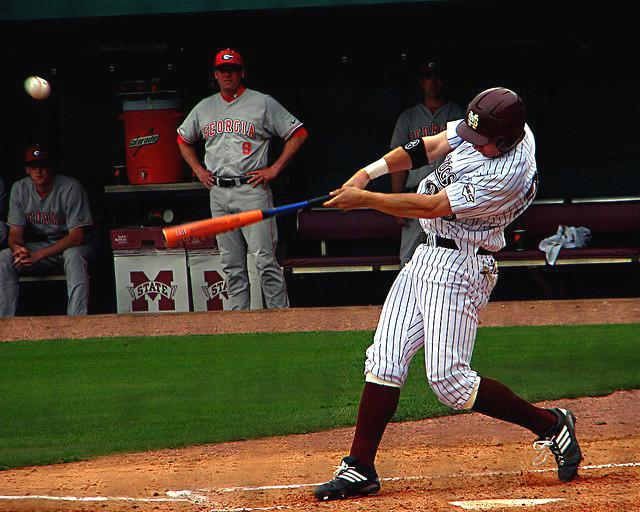ball: (26, 73, 52, 101)
bat: (160, 192, 330, 250)
